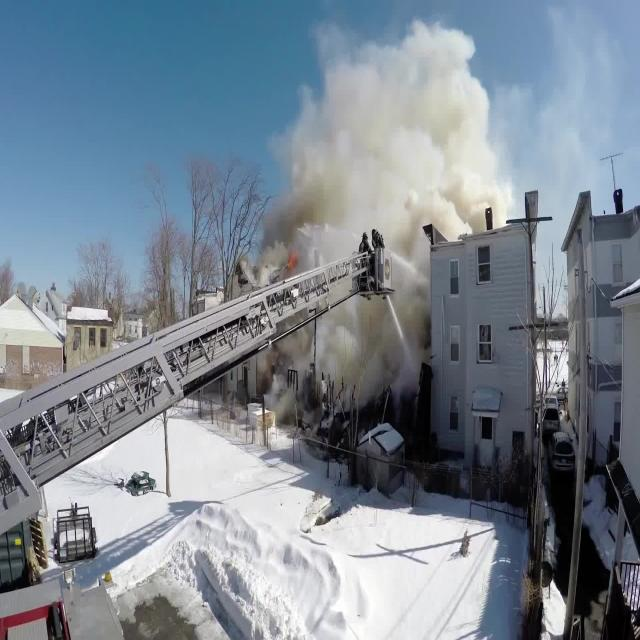smoke: (305, 66, 433, 383)
